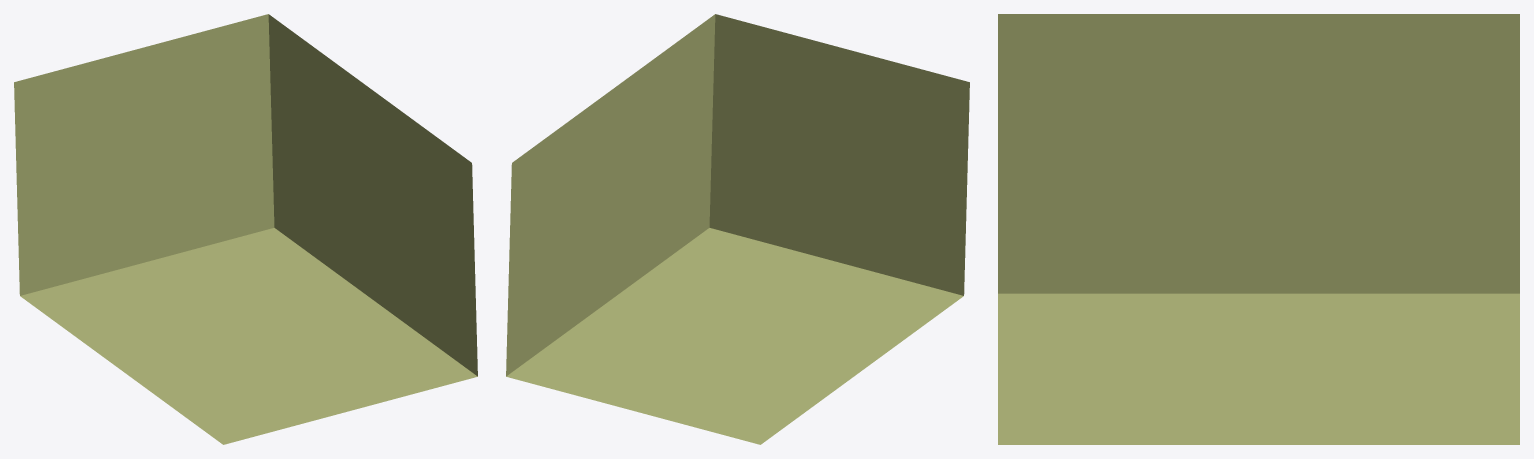
The picture shows the model from 3 angles, left to right: view 1: azimuth 30°, elevation 25°; view 2: azimuth 150°, elevation 25°; view 3: azimuth 270°, elevation 25°; orthographic projection. The views are drawn at different scales.
Parts seen in each view (by area): view 1: 0_0_1_2_0_0_1_1_0_3_3; view 2: 0_0_1_2_0_0_1_1_0_3_3; view 3: 0_0_1_2_0_0_1_1_0_3_3.
Part boxes in pixels (<box>): 0_0_1_2_0_0_1_1_0_3_3: <box>14,14,477,444</box>; 0_0_1_2_0_0_1_1_0_3_3: <box>506,14,969,444</box>; 0_0_1_2_0_0_1_1_0_3_3: <box>998,14,1519,444</box>.
Size of the model in its own units: 6.65 by 5.4 by 9.
